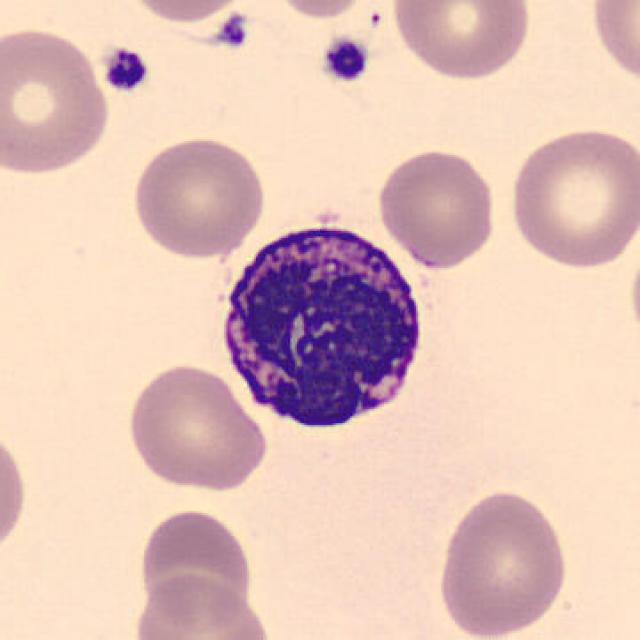Basophil: (210, 206, 436, 439)
Platelets: (318, 34, 374, 84), (100, 44, 151, 94), (215, 12, 251, 51)
RBC: (434, 485, 572, 640), (123, 359, 272, 494), (505, 121, 638, 272), (128, 132, 270, 261), (0, 21, 114, 178), (374, 144, 499, 272), (133, 504, 258, 626), (388, 0, 535, 83), (130, 571, 272, 640), (586, 0, 640, 91), (0, 423, 30, 561), (155, 5, 256, 41), (117, 0, 258, 25), (267, 0, 377, 21), (626, 226, 640, 362)
